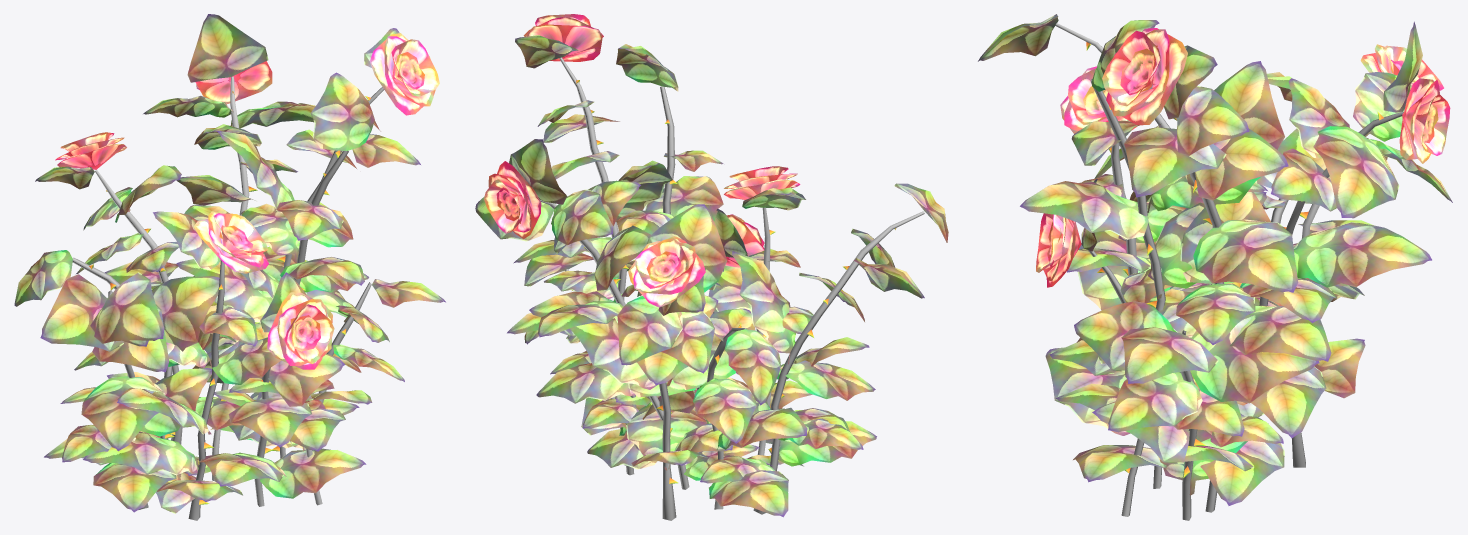
File: rose_bush_01_SM.fbx
3 renders of one model, left to right at view 1: azimuth 30°, elevation 25°; view 2: azimuth 150°, elevation 25°; view 3: azimuth 270°, elevation 25°, orthographic. The views are drawn at different scales.
Visible parts, largest first — view 1: rose_bush_01_SM_LOD0; view 2: rose_bush_01_SM_LOD0; view 3: rose_bush_01_SM_LOD0.
Boxes of the visible parts, x1,y1,x2,y2 form: rose_bush_01_SM_LOD0: (14,14,445,520); rose_bush_01_SM_LOD0: (475,14,948,520); rose_bush_01_SM_LOD0: (978,14,1452,520).
Bounding box in the file's own units: 193 × 160 × 200.
3 materials, 2 textured.
